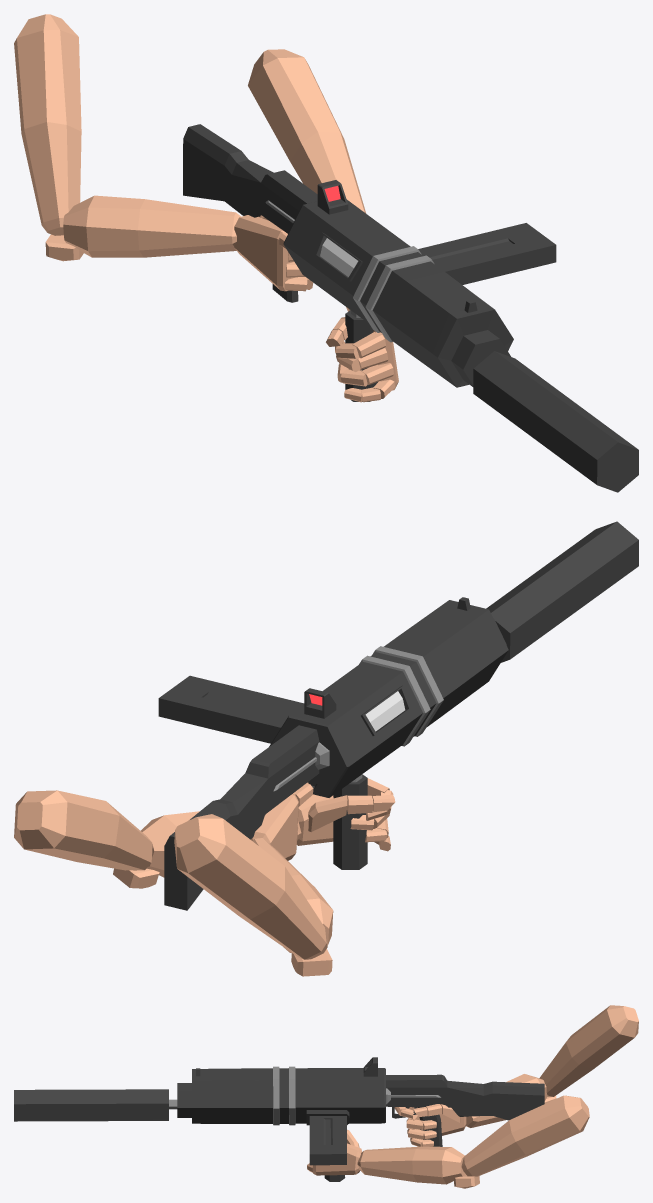
File: AR_Hand_2 (1).fbx
3 views of the same model, one above another, from view 1: azimuth 30°, elevation 25°; view 2: azimuth 150°, elevation 25°; view 3: azimuth 270°, elevation 25° (orthographic). The views are drawn at different scales.
Visible parts, largest first — view 1: Cylinder.003, Cube, Cube.001, Cube.019, Cube.003, Cube.021, Cube.040, Cube.002; view 2: Cylinder.003, Cube, Cube.019, Cube.003, Cube.021, Cube.001, Cube.020, Cube.039, Cube.023, Cube.040, Cube.002, Cube.022; view 3: Cylinder.003, Cube.019, Cube, Cube.020, Cube.003, Cube.039, Cube.001, Cube.021, Cube.022.
Boxes of the visible parts, x1,y1,x2,y2 form: Cylinder.003: (183, 124, 638, 492); Cube: (14, 14, 81, 235); Cube.001: (63, 195, 241, 257); Cube.019: (248, 49, 366, 213); Cube.003: (418, 223, 556, 284); Cube.021: (234, 215, 295, 291); Cube.040: (320, 238, 358, 276); Cube.002: (45, 234, 83, 261); Cylinder.003: (164, 521, 638, 910); Cube: (174, 814, 327, 959); Cube.019: (14, 790, 152, 870); Cube.003: (158, 675, 304, 743); Cube.021: (250, 794, 298, 860); Cube.001: (252, 838, 333, 952); Cube.020: (141, 811, 301, 877); Cube.039: (296, 794, 333, 845); Cube.023: (308, 795, 347, 831); Cube.040: (365, 691, 405, 731); Cube.002: (291, 949, 332, 976); Cube.022: (113, 868, 159, 888); Cylinder.003: (14, 1057, 544, 1181); Cube.019: (461, 1095, 589, 1176); Cube: (539, 1005, 638, 1096); Cube.020: (357, 1146, 465, 1184); Cube.003: (309, 1116, 346, 1165); Cube.039: (312, 1143, 362, 1175); Cube.001: (466, 1074, 547, 1127); Cube.021: (417, 1107, 466, 1135); Cube.022: (454, 1175, 479, 1188).
Bounding box in the file's own units: 52.85 × 36.57 × 142.
